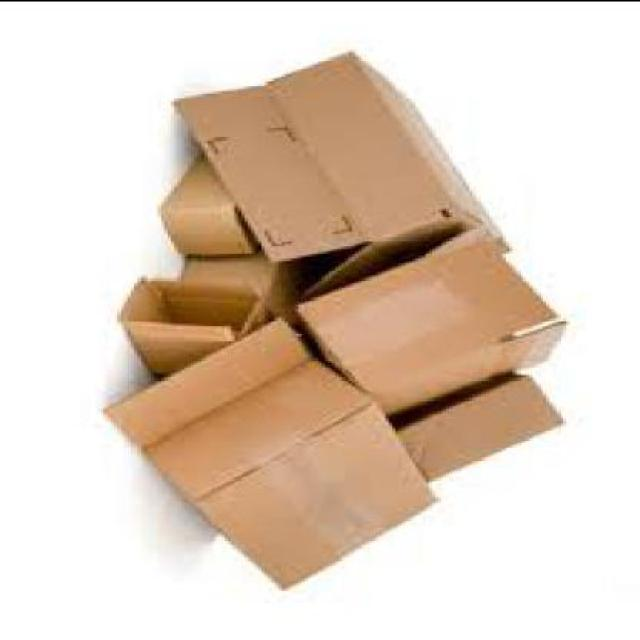CARDBOARD: (104, 318, 442, 592), (171, 54, 515, 303), (298, 230, 570, 422), (396, 375, 566, 480), (120, 274, 274, 383), (164, 150, 265, 258), (178, 257, 305, 328)
